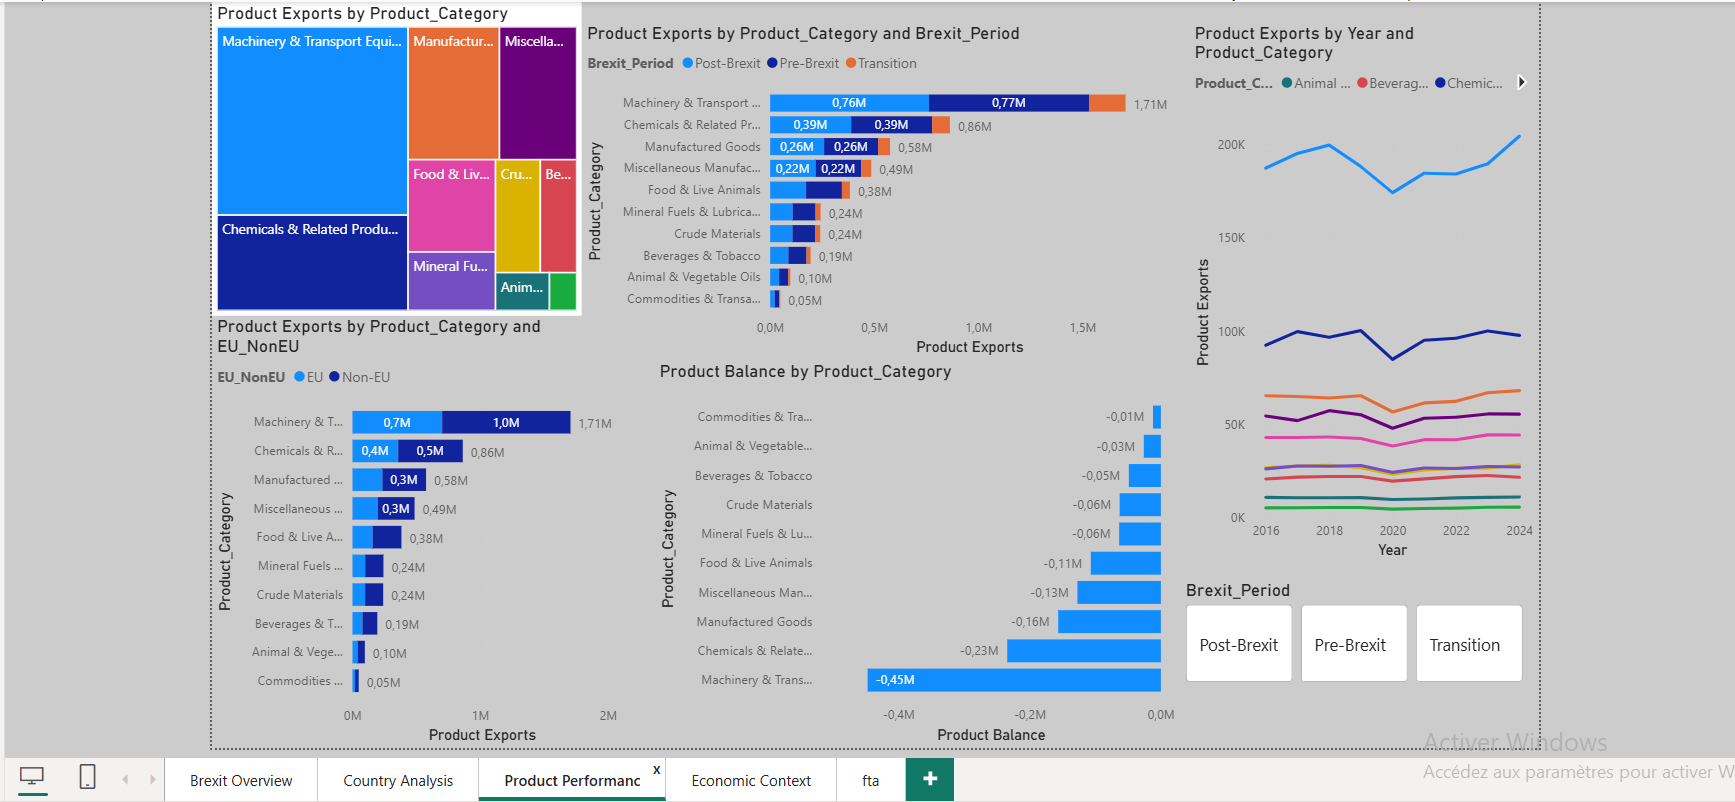

What the dashboard file says about the page in this screenshot:
{"tool":"powerbi","page":{"name":"Product Performanc","canvas":[1280,720],"ordinal":2},"visuals":[{"type":"treemap","fields":{"Values":["richlist table2_trade_by_product.Product Exports"],"Group":["richlist table2_trade_by_product.Product_Category"]},"box":[0,0,357.1,302.8],"z":0},{"type":"barChart","fields":{"Category":["richlist table2_trade_by_product.Product_Category"],"Y":["richlist table2_trade_by_product.Product Exports"],"Series":["richlist table2_trade_by_product.Brexit_Period"]},"box":[357.1,19.3,586.3,326.9],"z":1000},{"type":"barChart","fields":{"Category":["richlist table2_trade_by_product.Product_Category"],"Y":["richlist table2_trade_by_product.Product Exports"],"Series":["richlist table2_trade_by_product.EU_NonEU"]},"box":[0,302.8,405.4,417.4],"z":2000},{"type":"barChart","fields":{"Category":["richlist table2_trade_by_product.Product_Category"],"Y":["richlist table2_trade_by_product.Product Balance"]},"box":[427.1,346.2,507.9,374],"z":3000},{"type":"lineChart","fields":{"Category":["richlist table2_trade_by_product.Year"],"Y":["richlist table2_trade_by_product.Product Exports"],"Series":["richlist table2_trade_by_product.Product_Category"]},"box":[943.4,19.3,336.6,522.4],"z":4000},{"type":"advancedSlicerVisual","fields":{"Values":["richlist table2_trade_by_product.Brexit_Period"]},"box":[935,557.4,336.6,105],"z":5000}]}

Visuals, with their boxes on the page's 1280x720 design canvas (x1, y1, x2, y2). These are canvas units, not pixel positions in the 1735x802 screenshot, which may show the page scaled, cropped or inside an application window:
treemap - richlist table2_trade_by_product.Product Exports x richlist table2_trade_by_product.Product_Category: (0, 0, 357, 303)
barChart - richlist table2_trade_by_product.Product_Category x richlist table2_trade_by_product.Product Exports: (357, 19, 943, 346)
barChart - richlist table2_trade_by_product.Product_Category x richlist table2_trade_by_product.Product Exports: (0, 303, 405, 720)
barChart - richlist table2_trade_by_product.Product_Category x richlist table2_trade_by_product.Product Balance: (427, 346, 935, 720)
lineChart - richlist table2_trade_by_product.Year x richlist table2_trade_by_product.Product Exports: (943, 19, 1280, 542)
advancedSlicerVisual - richlist table2_trade_by_product.Brexit_Period: (935, 557, 1272, 662)
